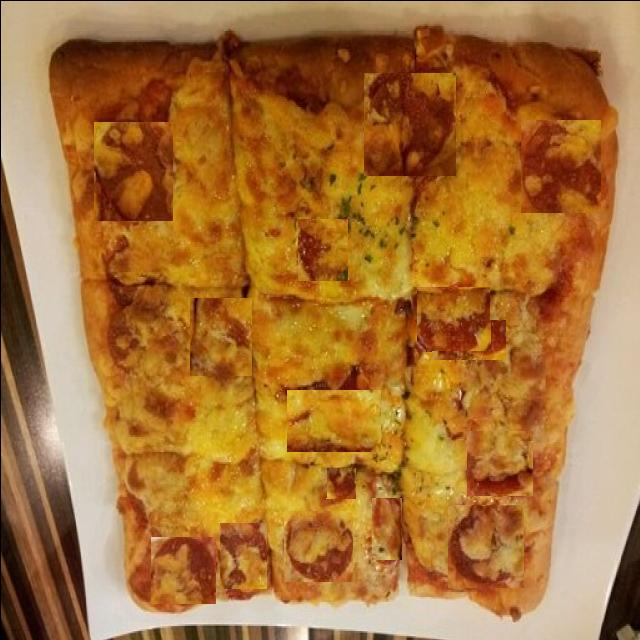pepperoni: (363, 72, 455, 174), (93, 121, 172, 219), (520, 119, 600, 211), (447, 504, 523, 586), (106, 304, 182, 382), (286, 389, 380, 450), (283, 510, 352, 580), (189, 297, 251, 374), (416, 286, 489, 350), (150, 536, 215, 602), (466, 430, 532, 494), (219, 522, 266, 587), (297, 218, 347, 279), (430, 319, 504, 358), (371, 497, 401, 558), (324, 467, 354, 497)
pizza: (44, 30, 620, 620)
